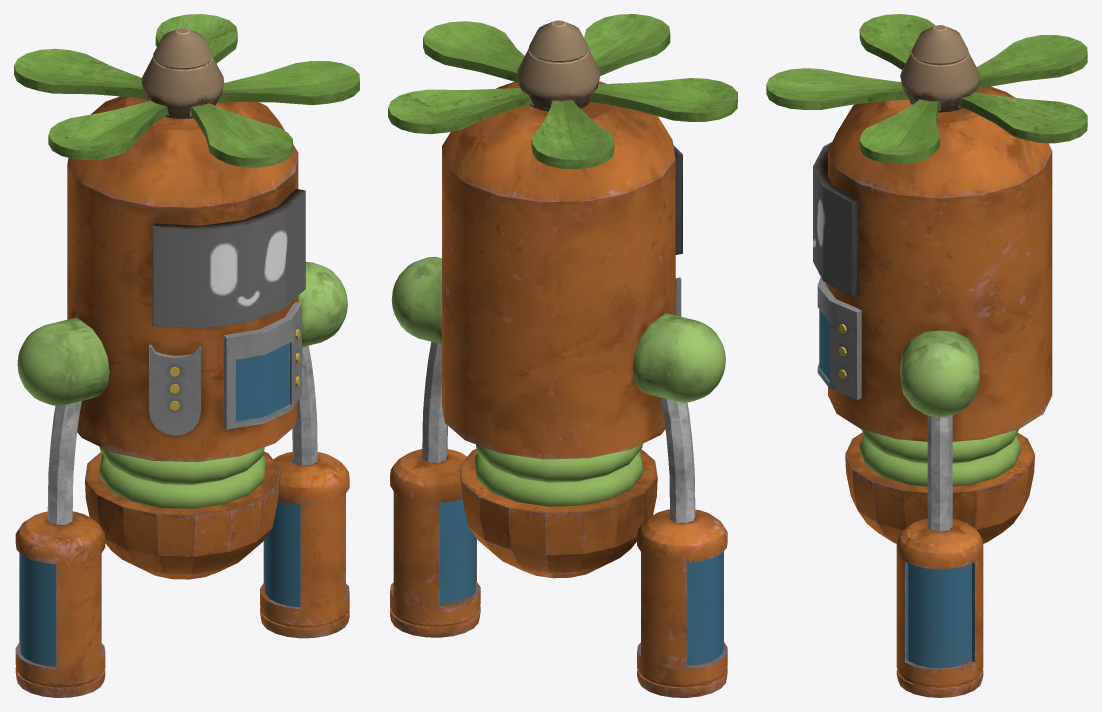
Rendered from karat.glb.
The picture shows the model from 3 angles, left to right: view 1: azimuth 30°, elevation 25°; view 2: azimuth 150°, elevation 25°; view 3: azimuth 270°, elevation 25°; orthographic projection. The views are drawn at different scales.
Parts seen in each view (by area): view 1: Mesh_6; view 2: Mesh_6; view 3: Mesh_6.
Boxes of the visible parts, box(x1,y1,x2,y2) form: Mesh_6: box(14, 14, 359, 697); Mesh_6: box(388, 14, 737, 697); Mesh_6: box(766, 14, 1087, 697).
Bounding box in the file's own units: 2.88 × 5.28 × 2.59.
1 material, 1 textured.
